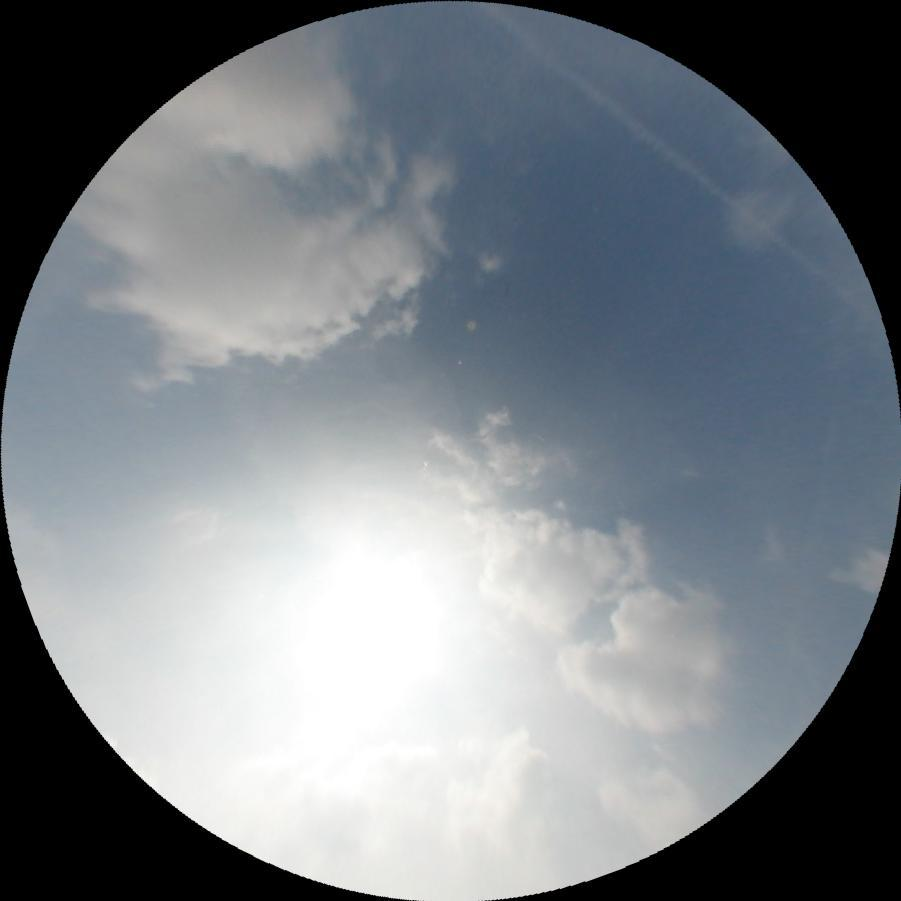contrail old: (474, 0, 878, 318)
sun: (260, 511, 493, 744)
